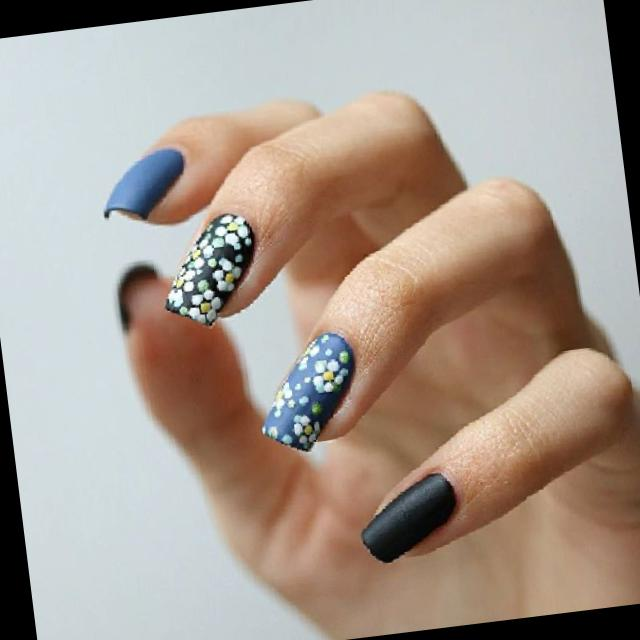Nail: (262, 331, 352, 450), (166, 212, 252, 323), (362, 473, 456, 559), (104, 147, 182, 218)
